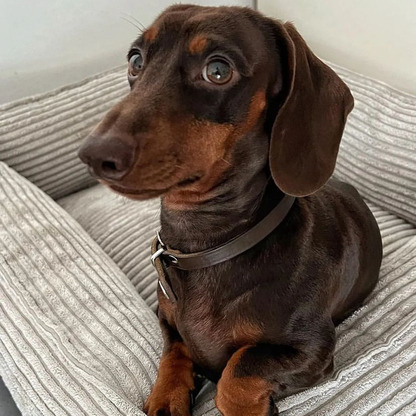dachshund: (91, 4, 388, 395)
